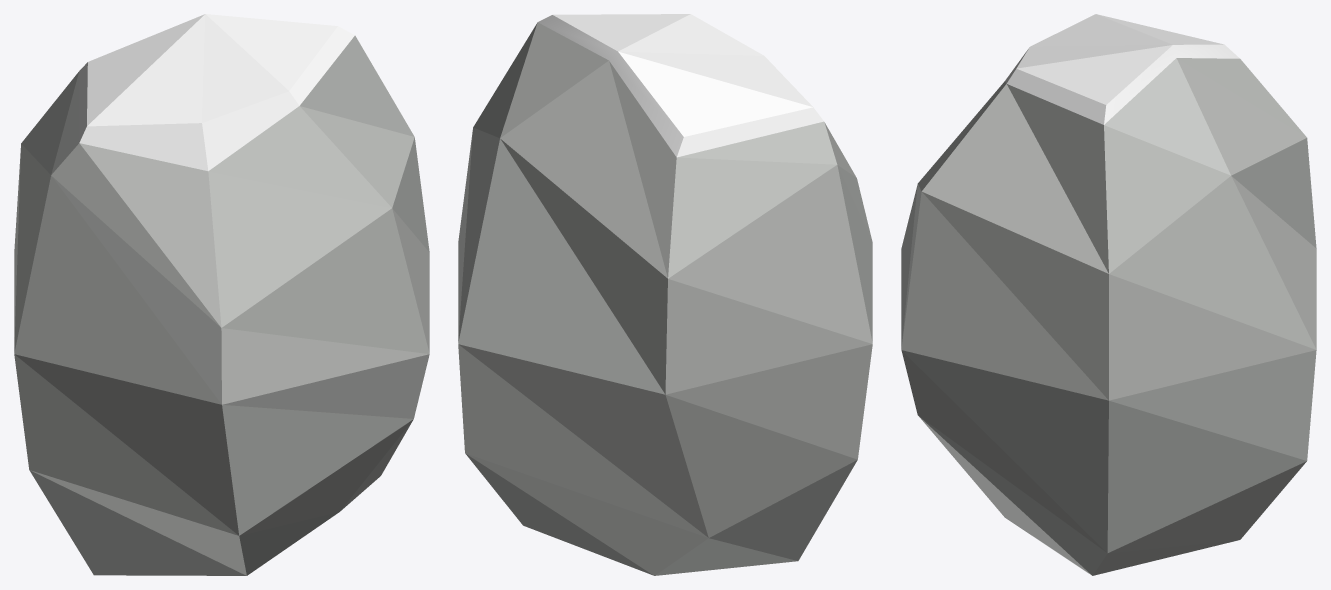
The model's file is Rock_Light_Snow_1.fbx.
The picture shows the model from 3 angles, left to right: view 1: azimuth 30°, elevation 25°; view 2: azimuth 150°, elevation 25°; view 3: azimuth 270°, elevation 25°; orthographic projection.
Visible parts, largest first — view 1: Rock_Light_Snow_1; view 2: Rock_Light_Snow_1; view 3: Rock_Light_Snow_1.
Boxes of the visible parts, x1,y1,x2,y2 form: Rock_Light_Snow_1: [14, 14, 429, 575]; Rock_Light_Snow_1: [458, 14, 872, 575]; Rock_Light_Snow_1: [901, 14, 1316, 575].
Bounding box in the file's own units: 2 × 2.37 × 1.73.
